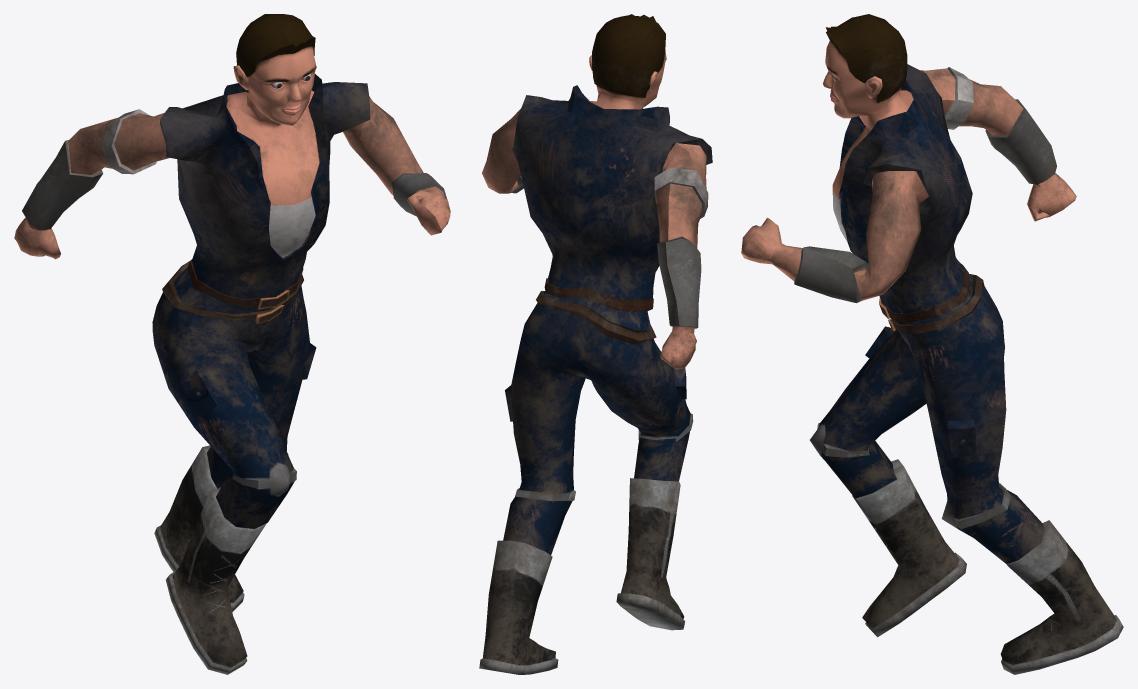
File: Anim_correr_jugador.0029.obj
3 renders of one model, left to right at view 1: azimuth 30°, elevation 25°; view 2: azimuth 150°, elevation 25°; view 3: azimuth 270°, elevation 25°, orthographic. The views are drawn at different scales.
Parts seen in each view (by area): view 1: Anim_correr_jugador; view 2: Anim_correr_jugador; view 3: Anim_correr_jugador.
Part boxes in pixels (x1,y1,x2,y2): Anim_correr_jugador: (14,14,450,674); Anim_correr_jugador: (479,14,712,674); Anim_correr_jugador: (741,14,1123,674).
Bounding box in the file's own units: 4.7 × 9.26 × 5.03.
Materials: 2 (2 with a texture image).
